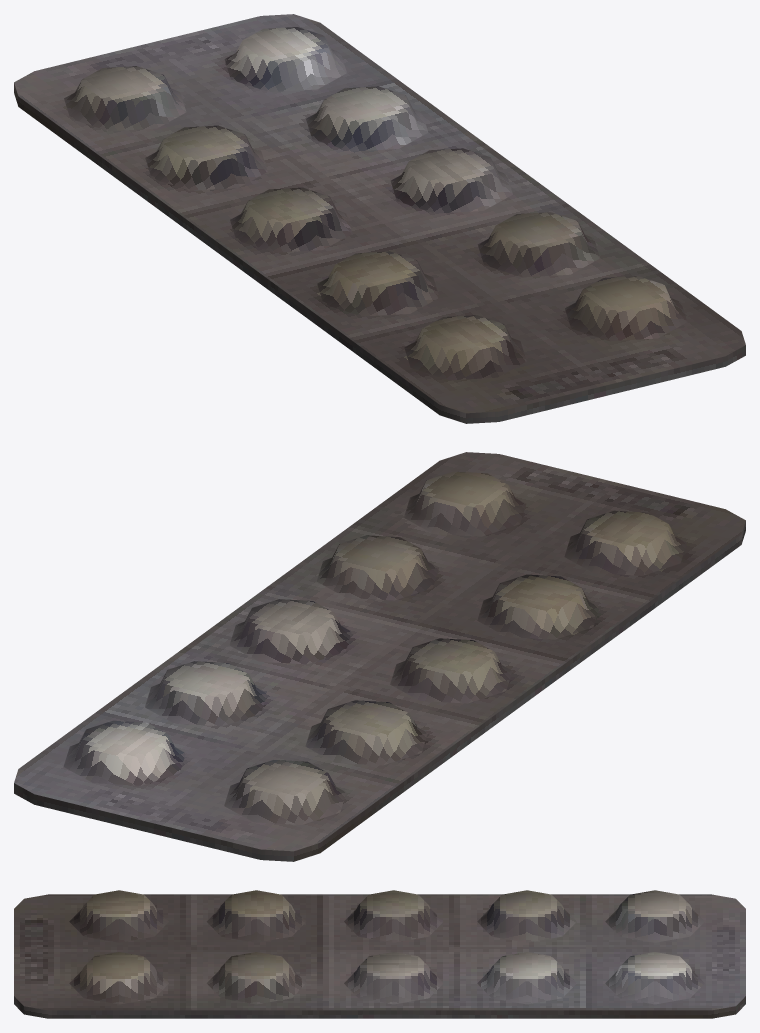
Rendered from pills_packet_1.glb.
3 views of the same model, one above another, from view 1: azimuth 30°, elevation 25°; view 2: azimuth 150°, elevation 25°; view 3: azimuth 270°, elevation 25° (orthographic). The views are drawn at different scales.
Visible parts, largest first — view 1: pills_packet_1; view 2: pills_packet_1; view 3: pills_packet_1.
Boxes of the visible parts, x1,y1,x2,y2 form: pills_packet_1: [14, 14, 745, 423]; pills_packet_1: [14, 452, 745, 861]; pills_packet_1: [14, 890, 745, 1018].
Bounding box in the file's own units: 0.06 × 0.006 × 0.16.
Materials: 1 (1 with a texture image).
